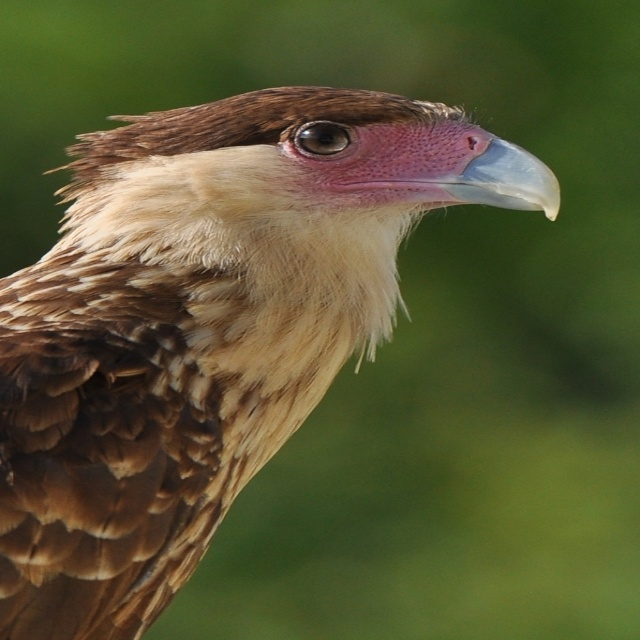Eagle: (0, 87, 567, 640)
